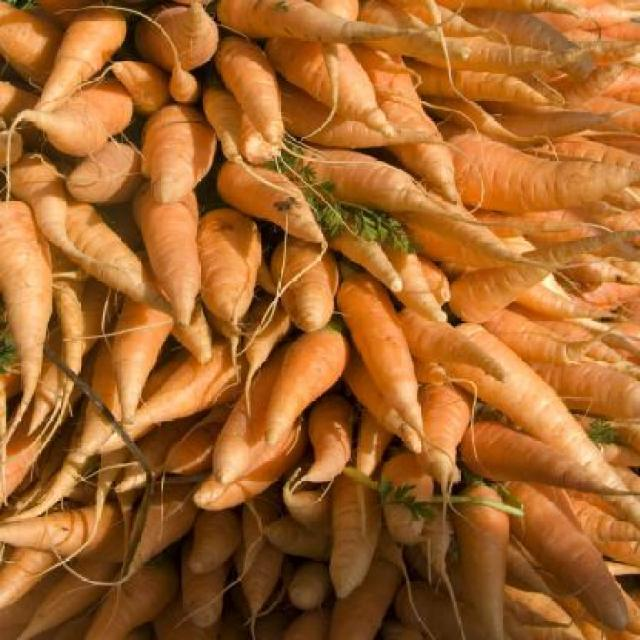Carrot: (0, 1, 640, 640), (449, 479, 514, 638)
